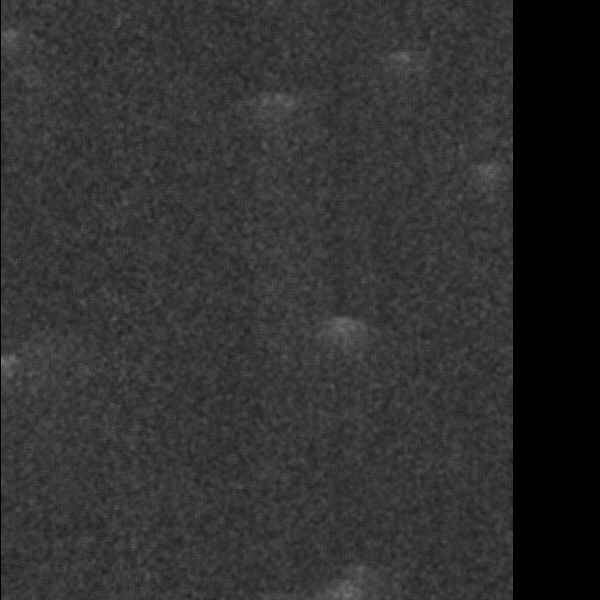spark: (308, 308, 372, 398), (383, 45, 418, 86), (472, 158, 507, 196), (321, 573, 358, 600), (1, 21, 23, 64), (268, 87, 289, 117)
